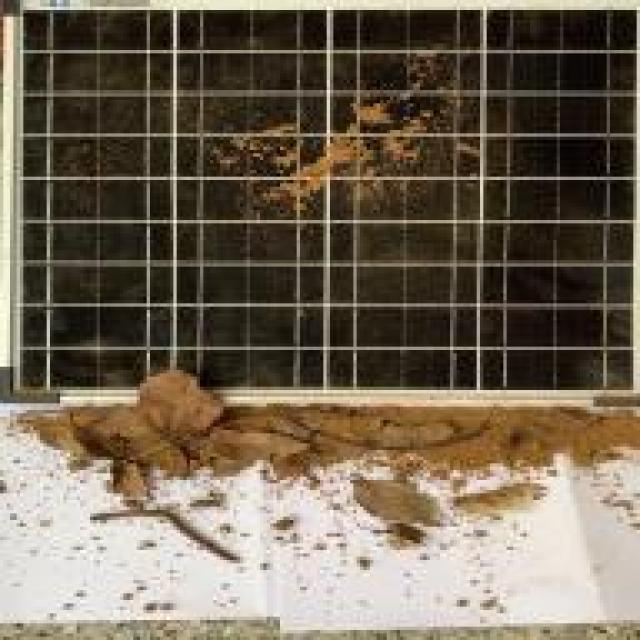dust-solar-panel: (0, 0, 640, 389)
